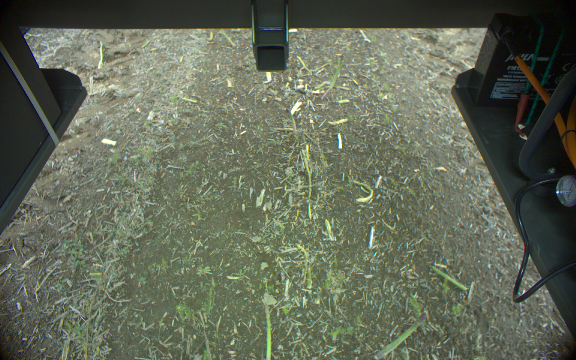aspa: (374, 311, 429, 360), (319, 53, 344, 102), (260, 301, 277, 360)
